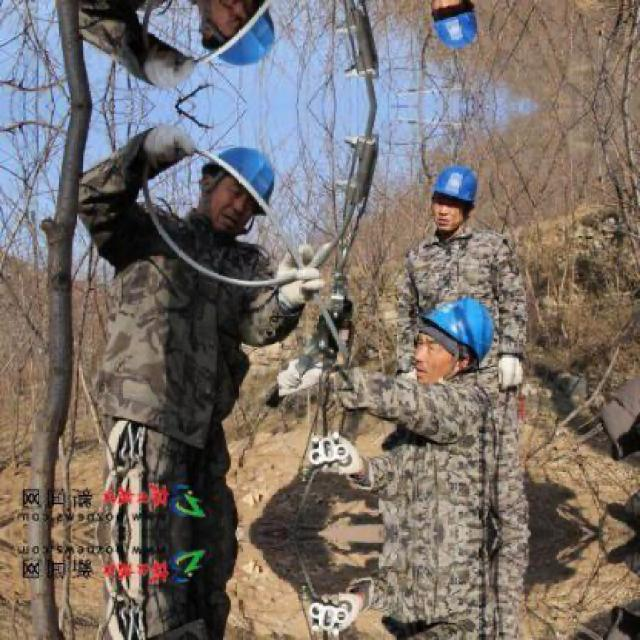con casco: (391, 276, 501, 406), (163, 146, 303, 244), (398, 149, 504, 251)
